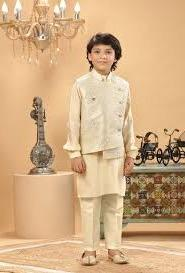Human: (59, 26, 145, 267)
